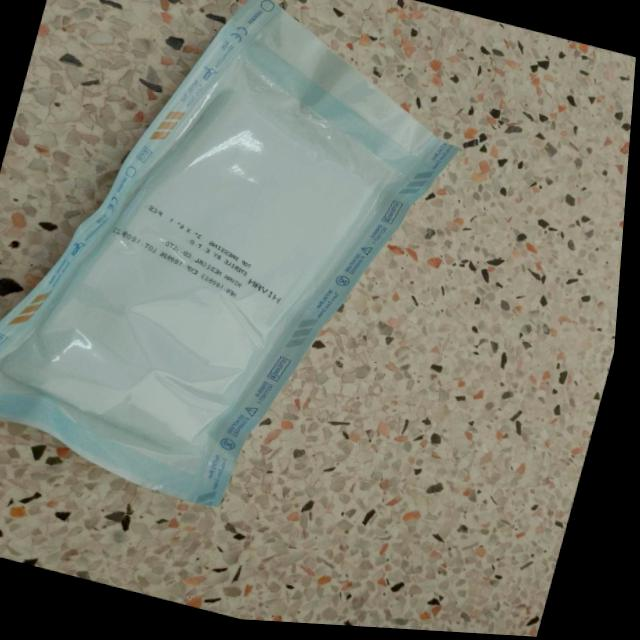Infectious: (1, 0, 462, 507)
